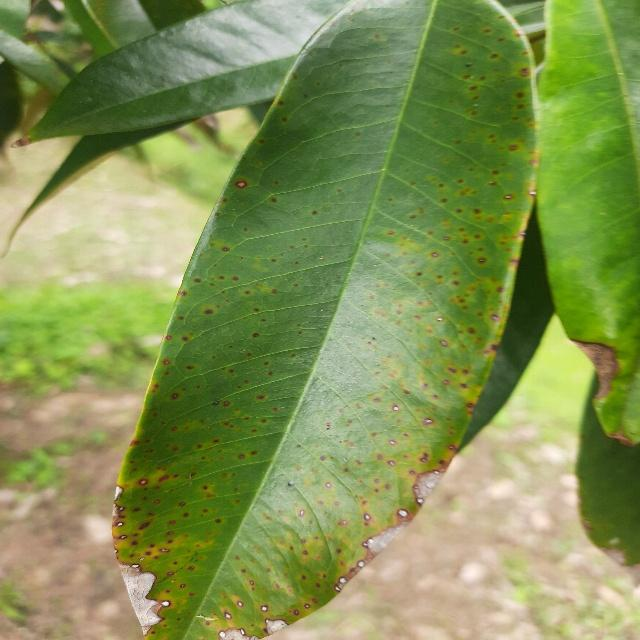Leaf Spot: (103, 0, 546, 640)
